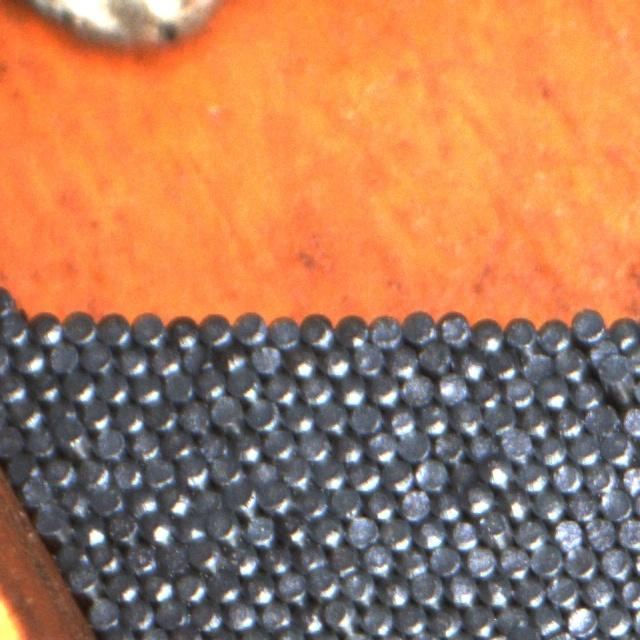tool: (420, 339, 454, 374), (300, 311, 334, 346), (212, 397, 246, 432), (536, 317, 570, 352), (262, 427, 298, 460), (402, 309, 436, 343), (352, 342, 386, 376), (350, 400, 384, 434), (264, 371, 298, 405), (554, 344, 588, 378), (343, 570, 377, 604), (530, 544, 564, 578), (247, 396, 281, 430), (324, 597, 358, 631), (198, 312, 232, 346), (432, 428, 466, 462), (284, 344, 318, 378), (386, 342, 419, 377), (368, 371, 401, 405), (571, 377, 605, 410), (316, 398, 349, 432), (299, 428, 332, 462), (501, 428, 534, 462), (378, 574, 411, 608), (88, 596, 121, 630), (572, 307, 605, 341), (318, 344, 351, 378), (530, 602, 564, 635), (520, 404, 554, 437), (602, 431, 636, 464), (516, 459, 550, 492), (148, 342, 181, 376), (95, 426, 128, 460), (462, 603, 496, 636), (46, 339, 80, 372), (364, 487, 398, 520), (97, 311, 130, 345), (504, 316, 537, 350), (410, 572, 444, 605), (267, 314, 300, 348), (515, 516, 548, 550), (260, 481, 294, 514), (60, 426, 94, 459), (63, 308, 96, 342), (133, 312, 166, 346), (81, 340, 115, 373), (478, 511, 511, 545), (592, 344, 625, 378), (205, 507, 239, 540), (233, 310, 266, 344), (369, 313, 402, 347), (230, 367, 264, 400), (536, 375, 569, 409), (463, 484, 496, 518), (211, 454, 246, 486), (115, 344, 148, 377), (565, 605, 598, 638), (401, 372, 434, 405), (300, 372, 333, 405), (162, 426, 195, 459), (329, 485, 362, 518), (429, 603, 462, 636), (122, 597, 155, 630), (495, 600, 528, 633), (600, 546, 633, 579), (243, 572, 276, 605), (499, 545, 532, 578), (399, 487, 432, 520), (551, 517, 584, 550), (145, 396, 178, 429), (381, 517, 414, 550), (328, 543, 361, 576), (361, 602, 394, 635), (438, 311, 471, 344), (600, 486, 633, 519), (30, 311, 63, 344), (519, 346, 552, 379), (295, 485, 328, 518), (108, 511, 141, 544), (501, 487, 534, 520), (586, 402, 619, 435), (334, 432, 367, 465), (418, 402, 450, 436), (415, 458, 449, 490), (566, 546, 600, 578), (598, 603, 630, 637), (568, 432, 602, 464), (472, 318, 504, 352), (124, 541, 158, 573), (346, 513, 378, 547), (482, 400, 516, 432), (336, 313, 368, 347), (105, 568, 139, 600), (245, 512, 277, 546), (282, 400, 316, 432), (178, 341, 212, 373), (162, 370, 195, 402), (366, 430, 399, 462), (582, 574, 615, 606), (13, 342, 46, 374), (551, 460, 584, 492), (514, 574, 547, 606), (398, 429, 431, 461), (63, 370, 96, 402), (447, 572, 479, 605), (190, 599, 222, 632), (175, 570, 208, 602), (144, 456, 177, 488), (249, 341, 282, 373), (141, 570, 174, 602), (276, 569, 308, 602), (548, 574, 580, 607), (480, 575, 513, 607), (96, 370, 129, 402), (430, 544, 463, 576), (583, 461, 616, 493), (533, 486, 565, 519), (394, 602, 427, 634), (348, 459, 381, 491), (196, 428, 228, 461), (382, 458, 415, 490), (9, 397, 42, 429), (314, 458, 347, 490), (482, 456, 515, 488), (280, 456, 313, 488), (159, 484, 192, 516), (227, 480, 260, 512), (79, 396, 112, 428), (467, 428, 499, 461), (307, 568, 340, 600), (311, 513, 343, 546), (258, 599, 291, 631), (436, 372, 469, 404), (584, 517, 617, 549), (335, 373, 368, 405), (30, 370, 63, 402), (192, 538, 224, 571), (143, 514, 176, 546), (452, 400, 484, 432), (465, 545, 497, 577), (113, 400, 145, 432), (224, 598, 256, 630), (504, 374, 536, 406), (178, 455, 210, 487), (553, 405, 585, 437), (397, 546, 429, 578), (111, 457, 143, 489), (456, 348, 488, 380), (247, 454, 279, 486), (448, 518, 480, 550), (415, 518, 447, 550), (93, 483, 125, 515), (362, 543, 394, 575), (178, 400, 210, 432), (127, 486, 159, 518), (294, 600, 326, 632), (567, 489, 599, 521), (278, 512, 310, 544), (130, 370, 162, 402), (78, 458, 110, 490), (195, 367, 227, 399), (44, 456, 76, 488), (130, 428, 162, 460), (156, 596, 188, 628), (230, 432, 262, 464), (230, 543, 262, 575), (386, 404, 418, 436), (486, 348, 518, 380), (90, 540, 122, 572), (430, 489, 462, 521), (608, 372, 640, 404), (208, 570, 240, 602), (33, 499, 65, 531), (608, 314, 640, 346), (191, 485, 224, 516), (536, 433, 567, 466), (448, 457, 479, 489), (24, 425, 56, 456), (43, 396, 75, 427), (174, 513, 205, 545), (261, 543, 293, 574), (167, 310, 198, 342), (294, 540, 325, 572), (0, 311, 30, 344), (471, 377, 502, 408), (70, 562, 101, 593), (61, 485, 92, 516), (220, 344, 250, 376), (20, 474, 52, 504), (159, 542, 189, 574), (77, 514, 109, 544), (6, 452, 38, 482), (0, 371, 27, 402), (617, 516, 640, 550), (617, 576, 640, 609), (0, 425, 23, 456), (620, 462, 640, 494), (622, 405, 640, 438), (624, 342, 640, 376), (170, 623, 202, 640), (105, 624, 136, 640), (239, 625, 272, 640), (273, 625, 306, 640), (138, 625, 170, 640), (0, 284, 13, 317)
